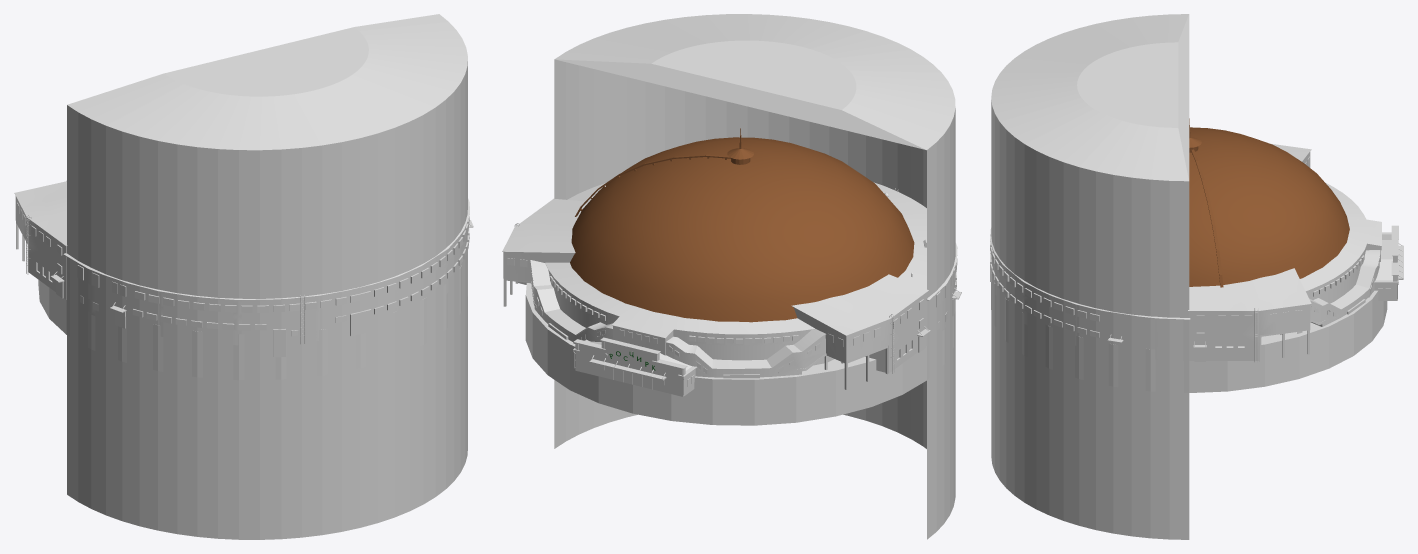
The model's file is цирк.fbx.
The picture shows the model from 3 angles, left to right: view 1: azimuth 30°, elevation 25°; view 2: azimuth 150°, elevation 25°; view 3: azimuth 270°, elevation 25°; orthographic projection. The views are drawn at different scales.
Visible parts, largest first — view 1: Cylinder.002, Sphere.001, Основной цилиндр, Cube.006, Cube.042, Cube.018; view 2: Sphere.001, Cylinder.002, Основной цилиндр, Cube.048; view 3: Cylinder.002, Sphere.001, Основной цилиндр, Cube.006, Cube.018.
Boxes of the visible parts, <box> form: Cylinder.002: <box>67,14,467,539</box>; Sphere.001: <box>14,180,473,345</box>; Основной цилиндр: <box>38,250,467,380</box>; Cube.006: <box>134,217,469,312</box>; Cube.042: <box>132,309,266,330</box>; Cube.018: <box>374,228,469,314</box>; Sphere.001: <box>502,128,961,396</box>; Cylinder.002: <box>554,14,955,539</box>; Основной цилиндр: <box>525,283,954,425</box>; Cube.048: <box>550,276,799,343</box>; Cylinder.002: <box>991,14,1189,539</box>; Sphere.001: <box>990,118,1403,361</box>; Основной цилиндр: <box>991,282,1387,392</box>; Cube.006: <box>990,234,1099,321</box>; Cube.018: <box>990,264,1099,337</box>.
Bounding box in the file's own units: 8387 × 8402 × 8493.
